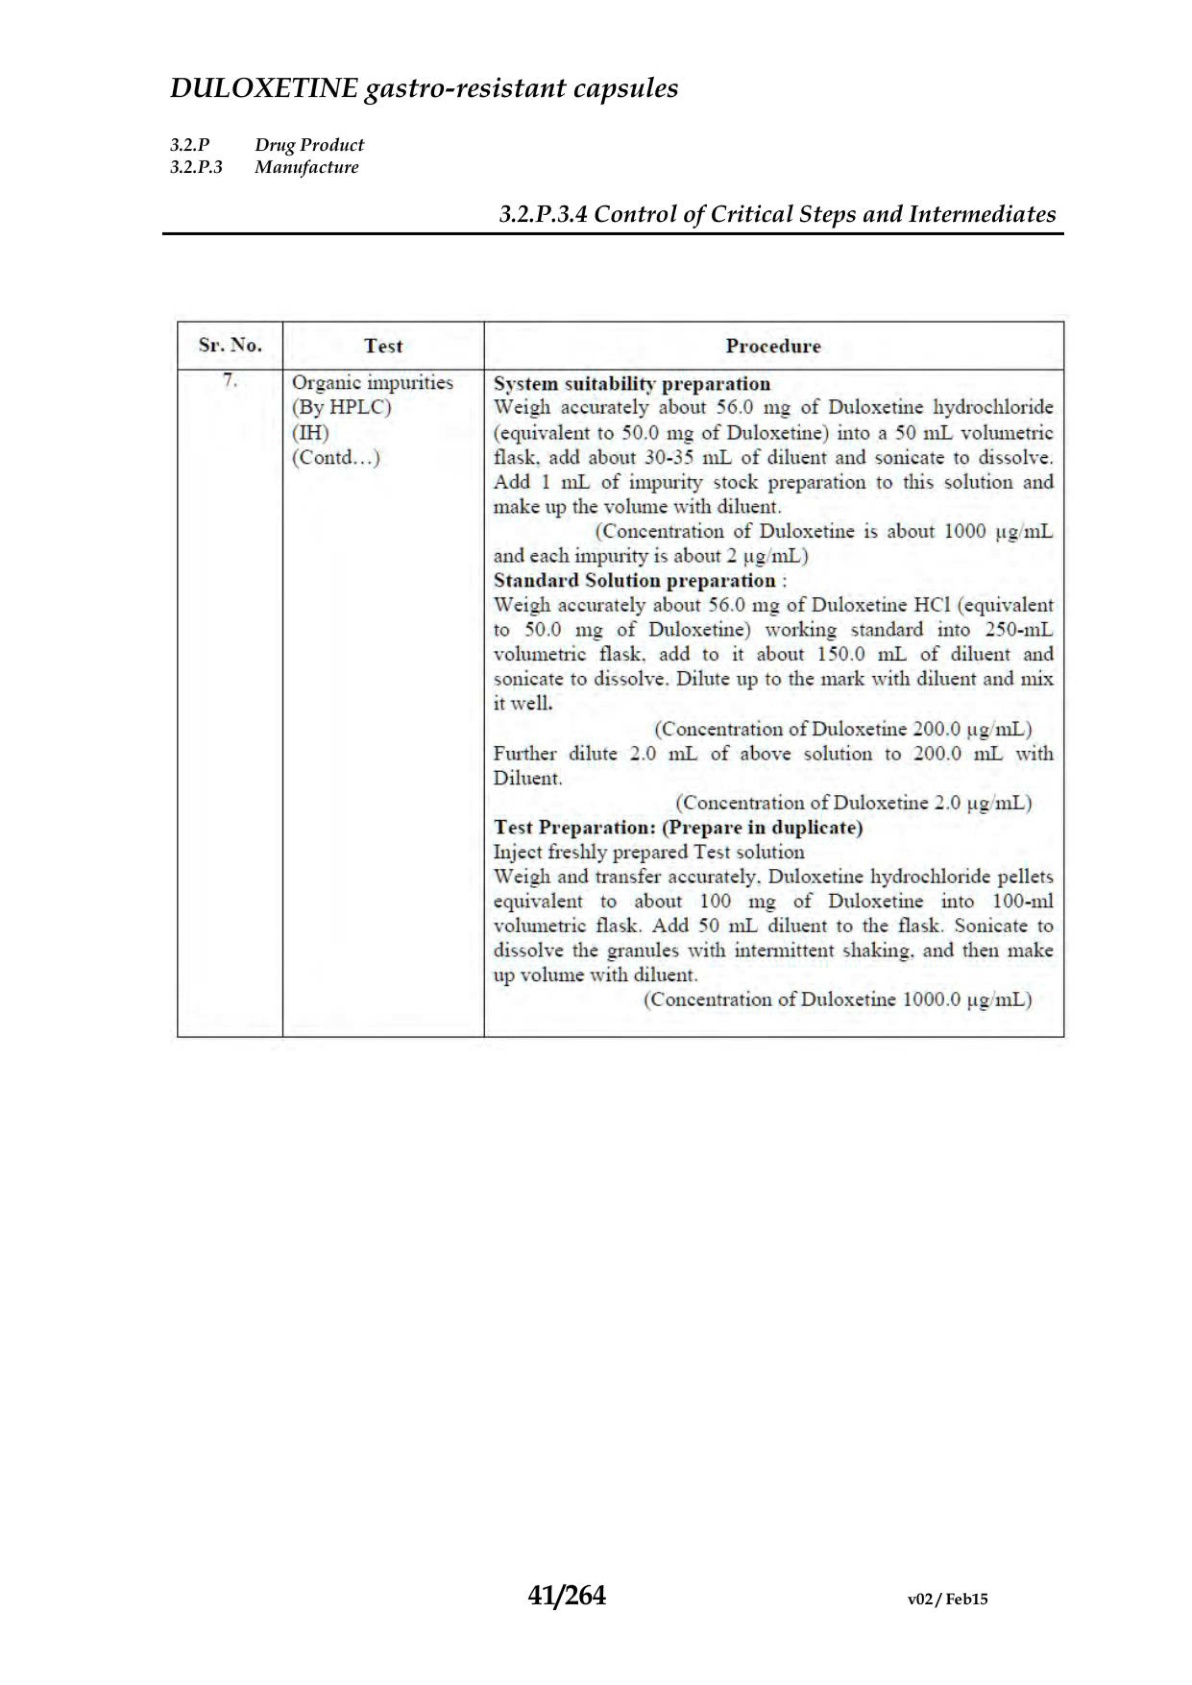full_lined: (175, 319, 1067, 1040)
